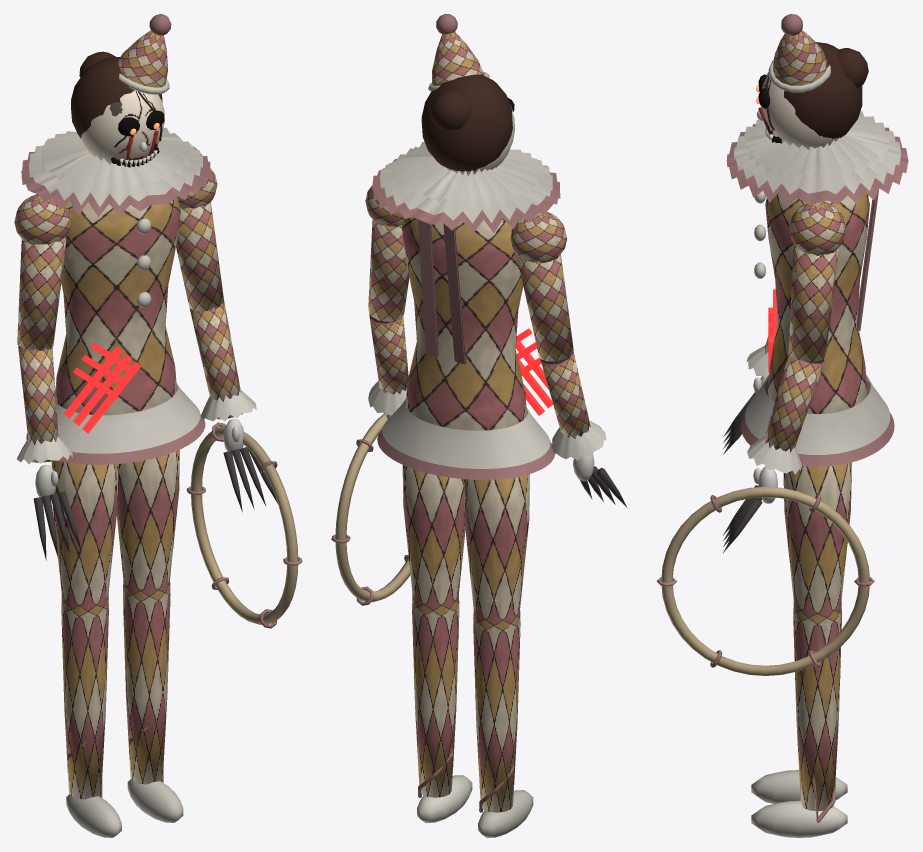
The model's file is porcelain_acrobat.glb.
The picture shows the model from 3 angles, left to right: view 1: azimuth 30°, elevation 25°; view 2: azimuth 150°, elevation 25°; view 3: azimuth 270°, elevation 25°; orthographic projection. The views are drawn at different scales.
Visible parts, largest first — view 1: Leotard, TightsLegA, TightsLegB, Acrobat_Root_CreamLace, ArmA_FadedHarlequin, ArmB_FadedHarlequin, Hoop, Acrobat_Root_FadedRose, Face, Head_AuburnHair, Acrobat_Root_HWound, Cap (+10 smaller); view 2: Leotard, TightsLegA, TightsLegB, Acrobat_Root_CreamLace, ArmA_FadedHarlequin, Head_AuburnHair, ArmB_FadedHarlequin, Acrobat_Root_FadedRose, Tail_FadedRose, Hoop, Cap, SlipperLegA (+5 smaller); view 3: TightsLegB, Acrobat_Root_CreamLace, Leotard, ArmB_FadedHarlequin, Hoop, Head_AuburnHair, Acrobat_Root_FadedRose, SlipperLegB, Cap, Face, SlipperLegA, CuffFrillArmB (+7 smaller).
Boxes of the visible parts, x1,y1,x2,y2 form: Leotard: (55, 196, 180, 415); TightsLegA: (51, 460, 118, 799); TightsLegB: (116, 449, 179, 784); Acrobat_Root_CreamLace: (29, 127, 202, 453); ArmA_FadedHarlequin: (14, 194, 71, 462); ArmB_FadedHarlequin: (176, 168, 242, 419); Hoop: (190, 426, 298, 624); Acrobat_Root_FadedRose: (21, 146, 210, 464); Face: (81, 90, 164, 165); Head_AuburnHair: (71, 51, 162, 138); Acrobat_Root_HWound: (63, 342, 141, 433); Cap: (118, 30, 167, 87); Leotard: (401, 217, 527, 430); TightsLegA: (463, 474, 530, 812); TightsLegB: (402, 465, 465, 797); Acrobat_Root_CreamLace: (380, 141, 552, 468); ArmA_FadedHarlequin: (510, 211, 590, 438); Head_AuburnHair: (421, 74, 512, 171); ArmB_FadedHarlequin: (365, 185, 409, 394); Acrobat_Root_FadedRose: (372, 159, 560, 479); Tail_FadedRose: (418, 219, 466, 364); Hoop: (335, 413, 410, 602); Cap: (432, 32, 484, 85); SlipperLegA: (478, 790, 533, 837); TightsLegB: (783, 462, 851, 811); Acrobat_Root_CreamLace: (734, 111, 901, 454); Leotard: (765, 192, 869, 414); ArmB_FadedHarlequin: (763, 201, 845, 463); Hoop: (661, 486, 869, 675); Head_AuburnHair: (784, 42, 868, 138); Acrobat_Root_FadedRose: (726, 124, 908, 466); SlipperLegB: (751, 800, 847, 837); Cap: (773, 30, 826, 85); Face: (761, 72, 837, 150); SlipperLegA: (751, 770, 847, 803); CuffFrillArmB: (747, 436, 801, 474).
Bounding box in the file's own units: 0.5289 × 1.74 × 0.4848.
14 materials, 2 textured.
